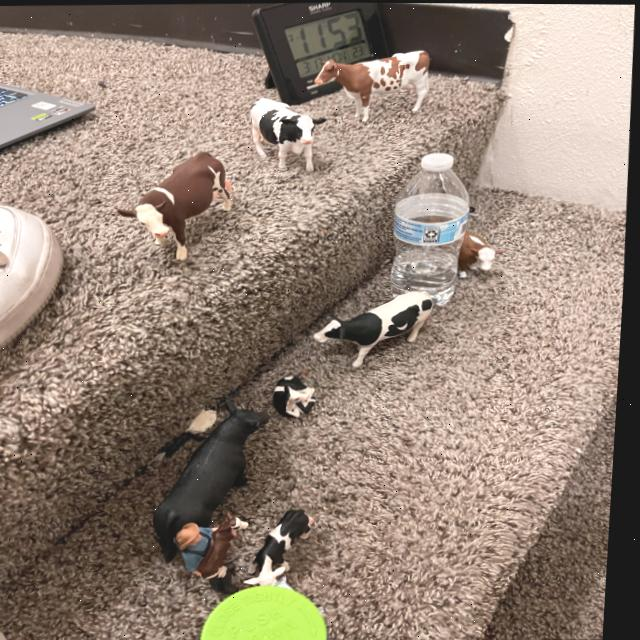cow: (130, 389, 295, 567), (119, 132, 252, 267), (314, 282, 449, 378), (312, 47, 436, 126), (239, 94, 329, 178), (249, 499, 324, 599), (445, 221, 506, 281), (267, 368, 327, 427), (201, 509, 247, 582)
person: (171, 515, 224, 574)
